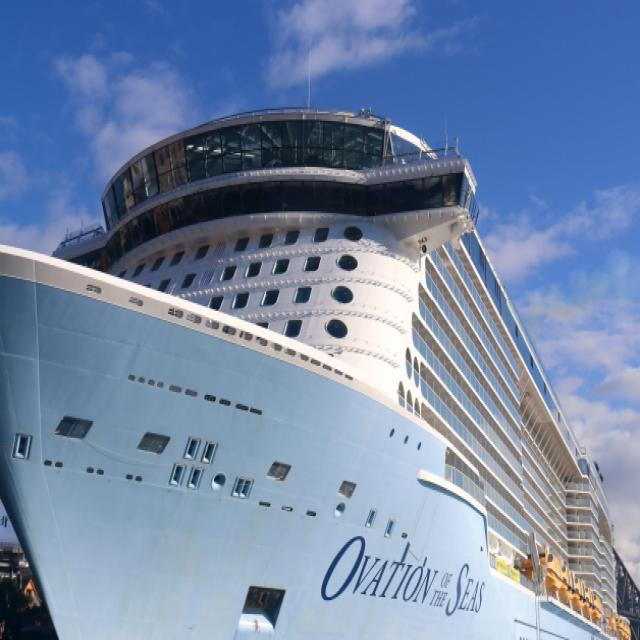cruises: (1, 67, 639, 640)
